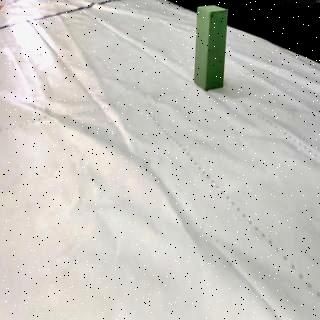greenbox: (196, 5, 228, 89)
